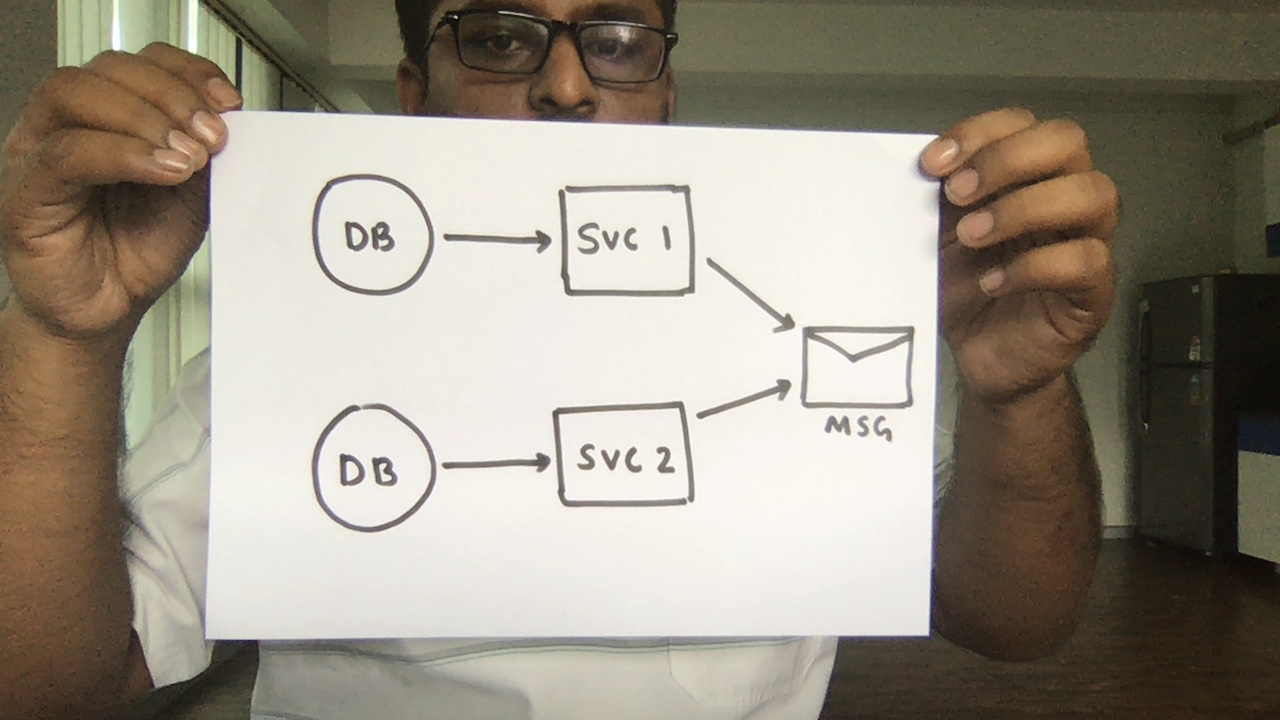arrow: (698, 250, 805, 344), (437, 440, 556, 498), (440, 214, 559, 271), (693, 373, 798, 434)
db: (302, 396, 444, 537), (307, 168, 440, 303)
ec2: (549, 178, 705, 309), (546, 395, 702, 514)
sns: (795, 323, 922, 442)
